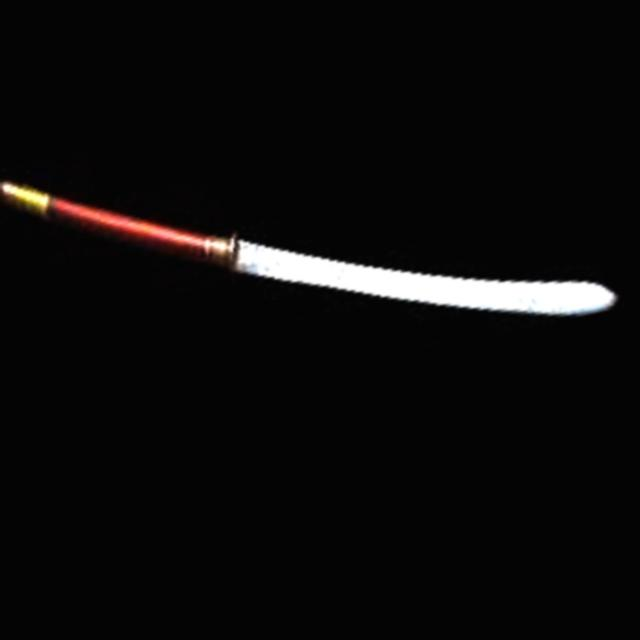long sword: (0, 54, 622, 435)
